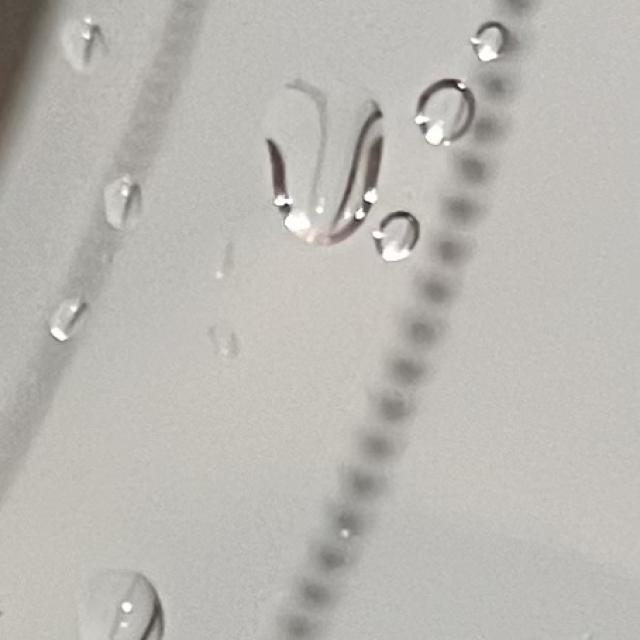raindrop: (260, 68, 382, 246), (68, 560, 172, 640), (402, 74, 491, 147), (358, 211, 437, 273), (48, 12, 117, 79), (87, 178, 158, 230), (459, 19, 532, 61), (45, 292, 93, 344), (200, 314, 256, 351)
